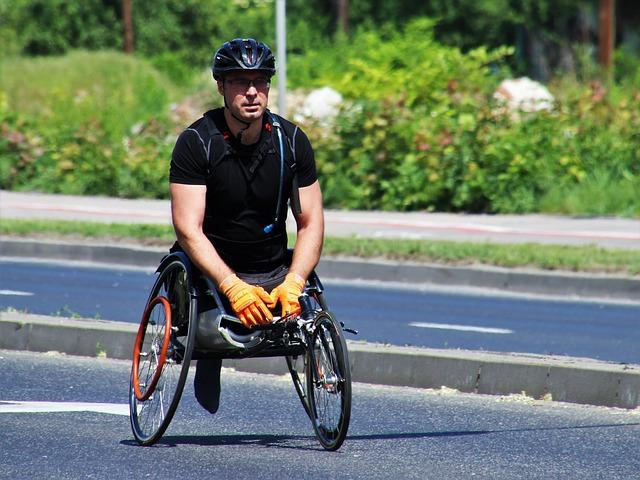wheelchair: (129, 38, 360, 452)
